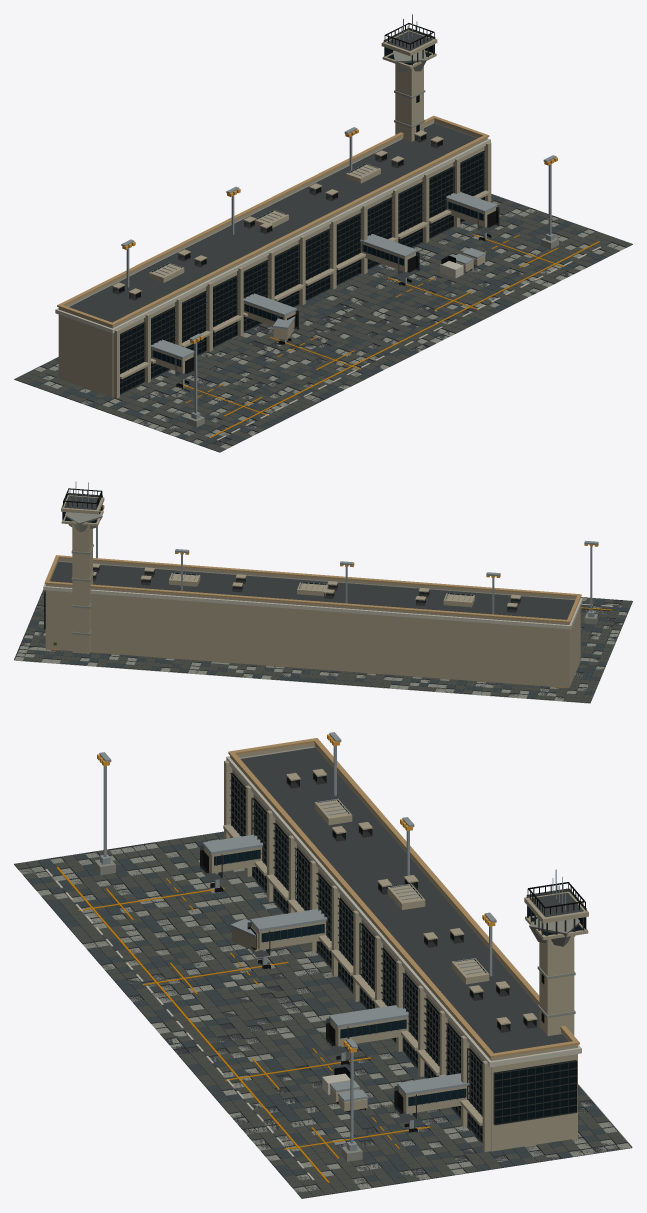
File: SM_Mapa_035.fbx
3 renders of one model, top to bottom at view 1: azimuth 30°, elevation 25°; view 2: azimuth 150°, elevation 25°; view 3: azimuth 270°, elevation 25°, orthographic. The views are drawn at different scales.
Parts seen in each view (by area): view 1: SM_Mapa_035; view 2: SM_Mapa_035; view 3: SM_Mapa_035.
Boxes of the visible parts, bbox=[...] form: SM_Mapa_035: bbox=[14, 14, 632, 452]; SM_Mapa_035: bbox=[14, 481, 632, 703]; SM_Mapa_035: bbox=[14, 732, 632, 1198].
Size of the model in its own units: 300 by 204 by 88.9.
